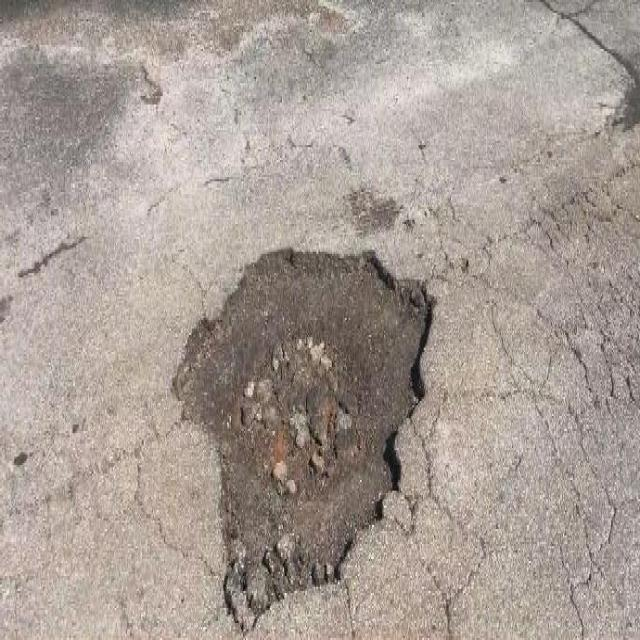cracks: (547, 0, 633, 61)
pothole: (168, 230, 440, 628)
